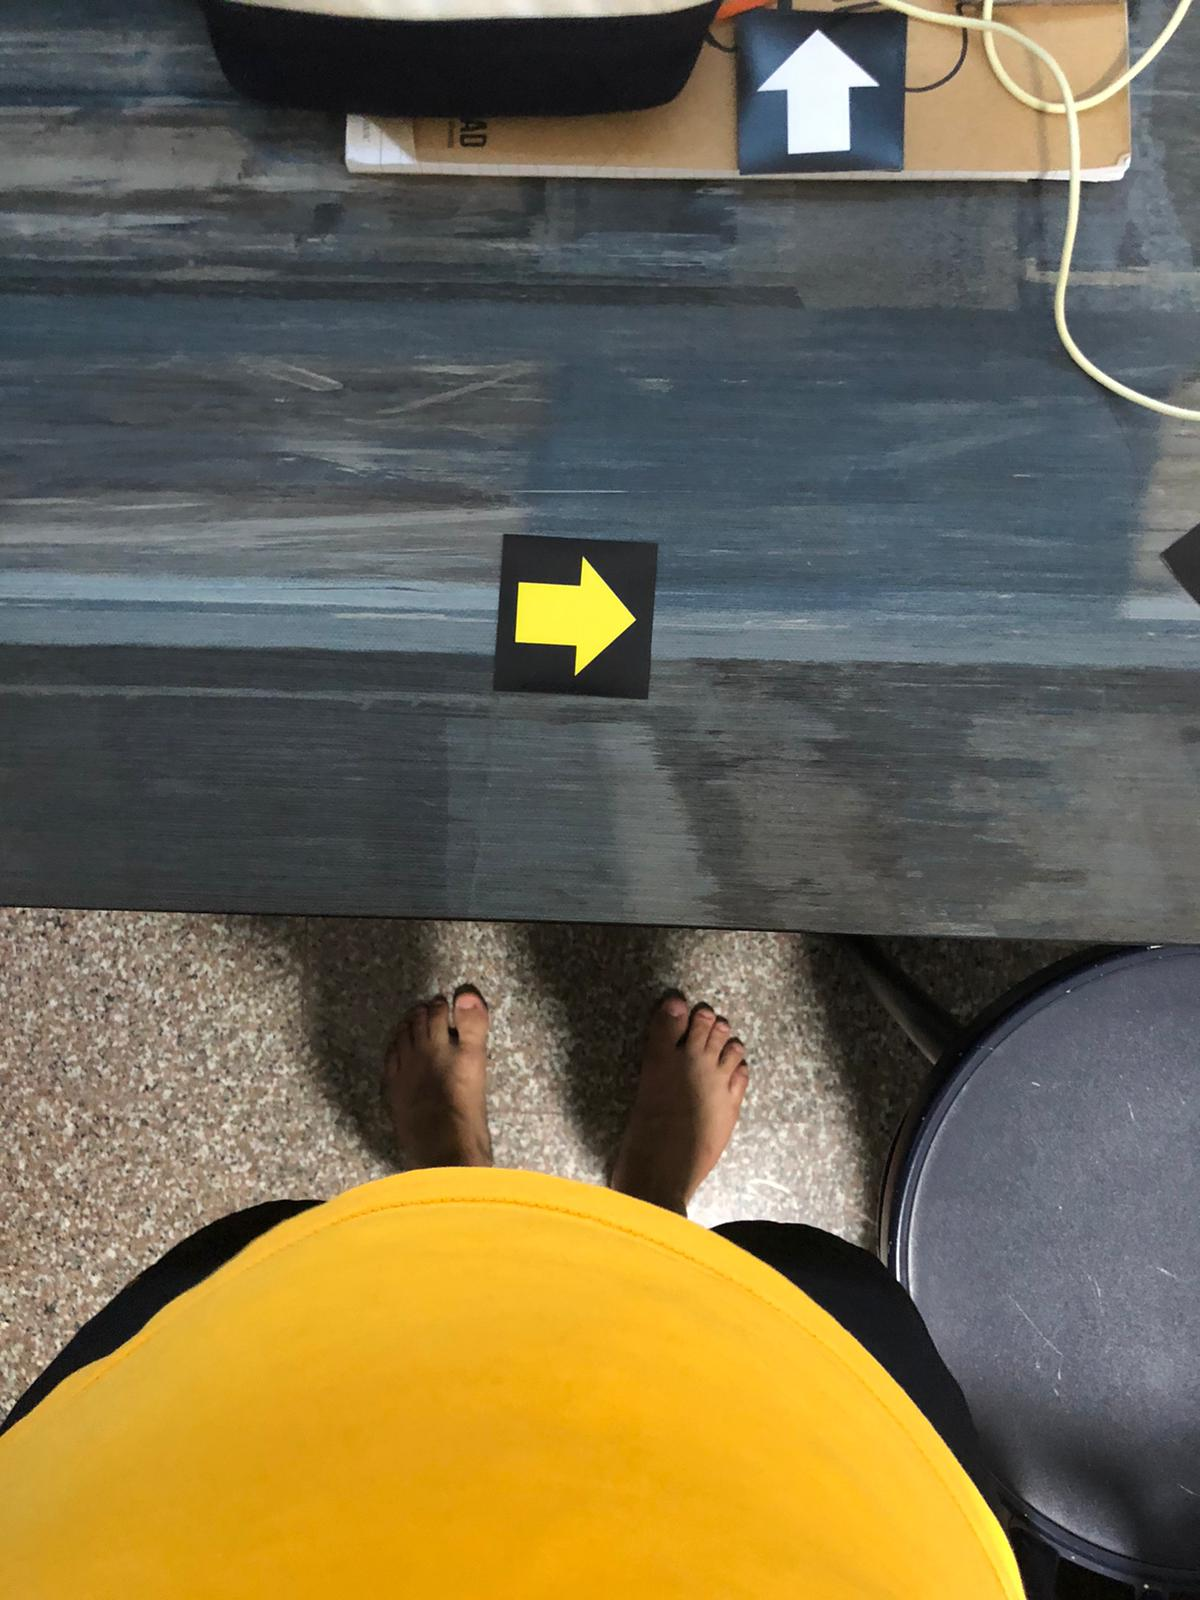Right Arrow: (494, 540, 655, 695)
